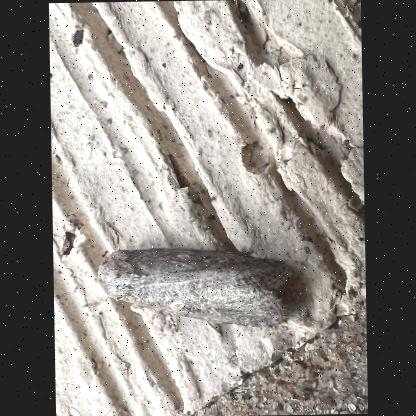Fall Armyworm Moth: (94, 208, 296, 340)
